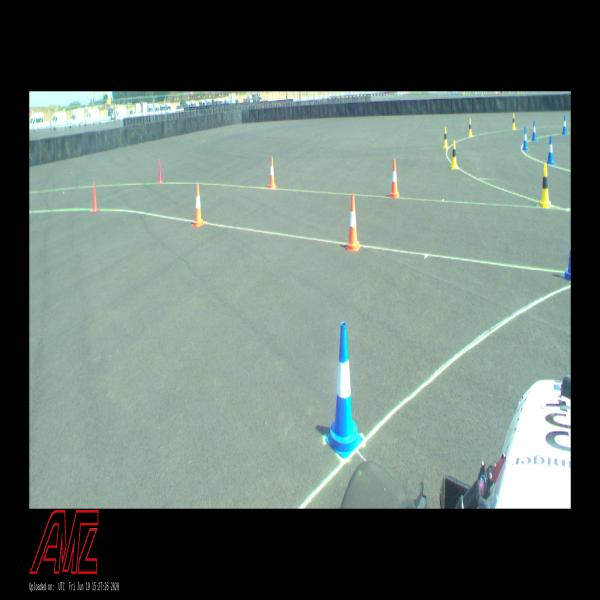blue_cone: (325, 322, 363, 459), (562, 242, 570, 280), (547, 136, 554, 165), (523, 127, 528, 150), (562, 116, 567, 134), (532, 120, 536, 141)
orange_cone: (345, 194, 361, 251), (192, 184, 204, 227), (390, 159, 399, 198), (268, 156, 277, 188)
unknown_cone: (90, 180, 100, 212), (157, 159, 163, 183)
yellow_cone: (540, 163, 552, 207), (450, 140, 458, 169), (442, 127, 449, 149), (468, 119, 472, 137), (512, 113, 516, 130)
